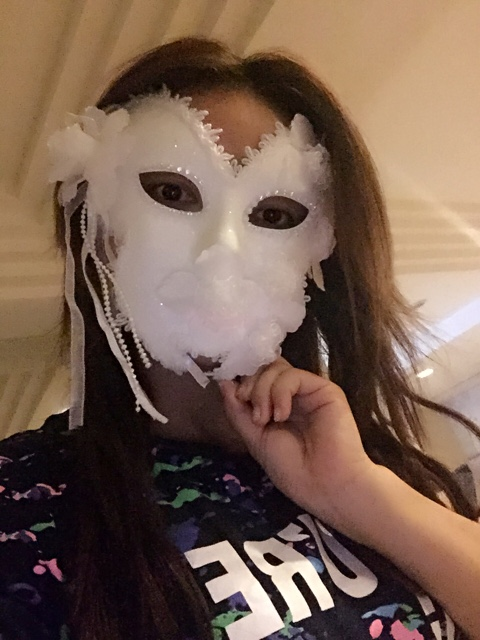face_mask: (114, 79, 316, 380)
